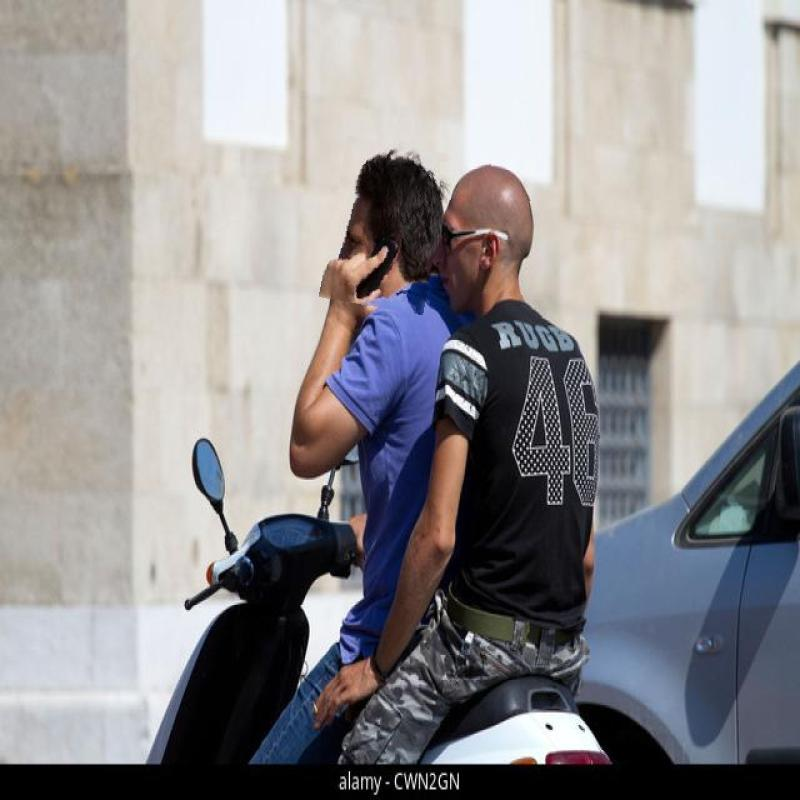nohelmet: (326, 140, 444, 312), (439, 162, 542, 296)
